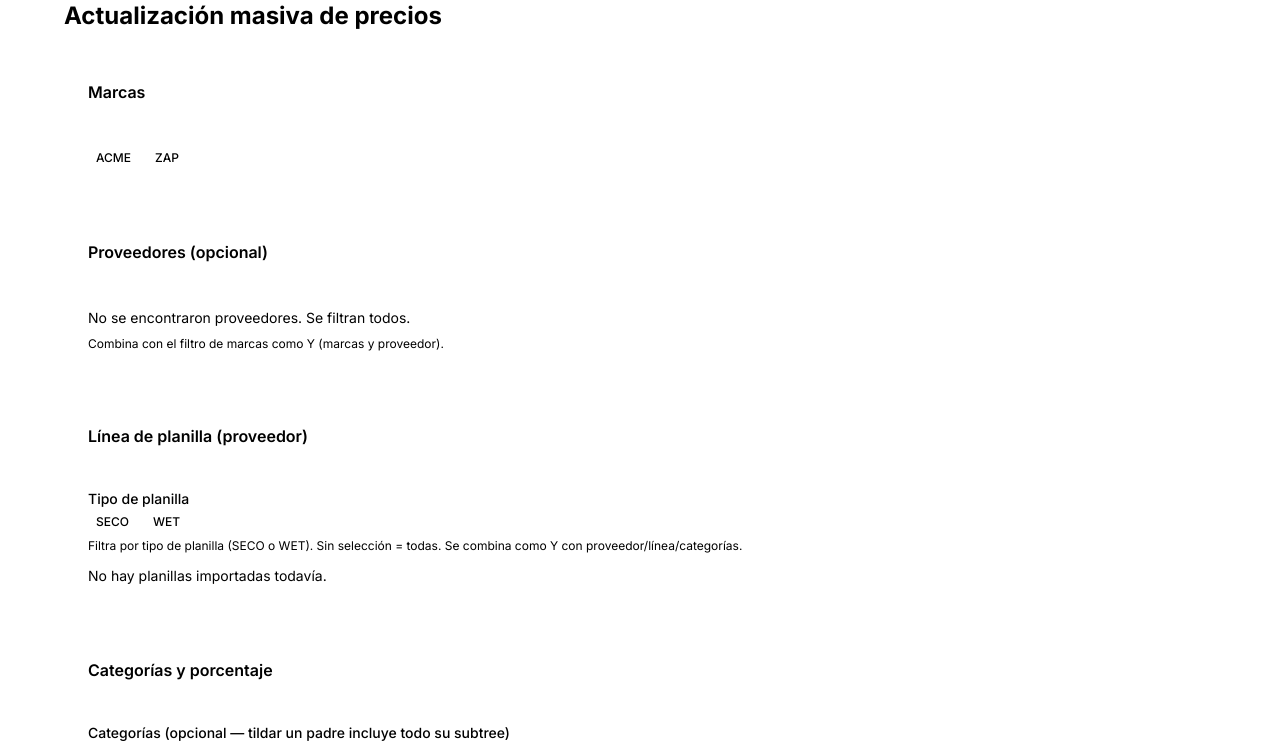
it: BulkPriceUpdate — preview, exclusions and apply › shows a red warning when the percentage is negative
Click the text "Acme" at [114, 158], box left=96, top=150, right=131, bottom=165
(page scrolled)
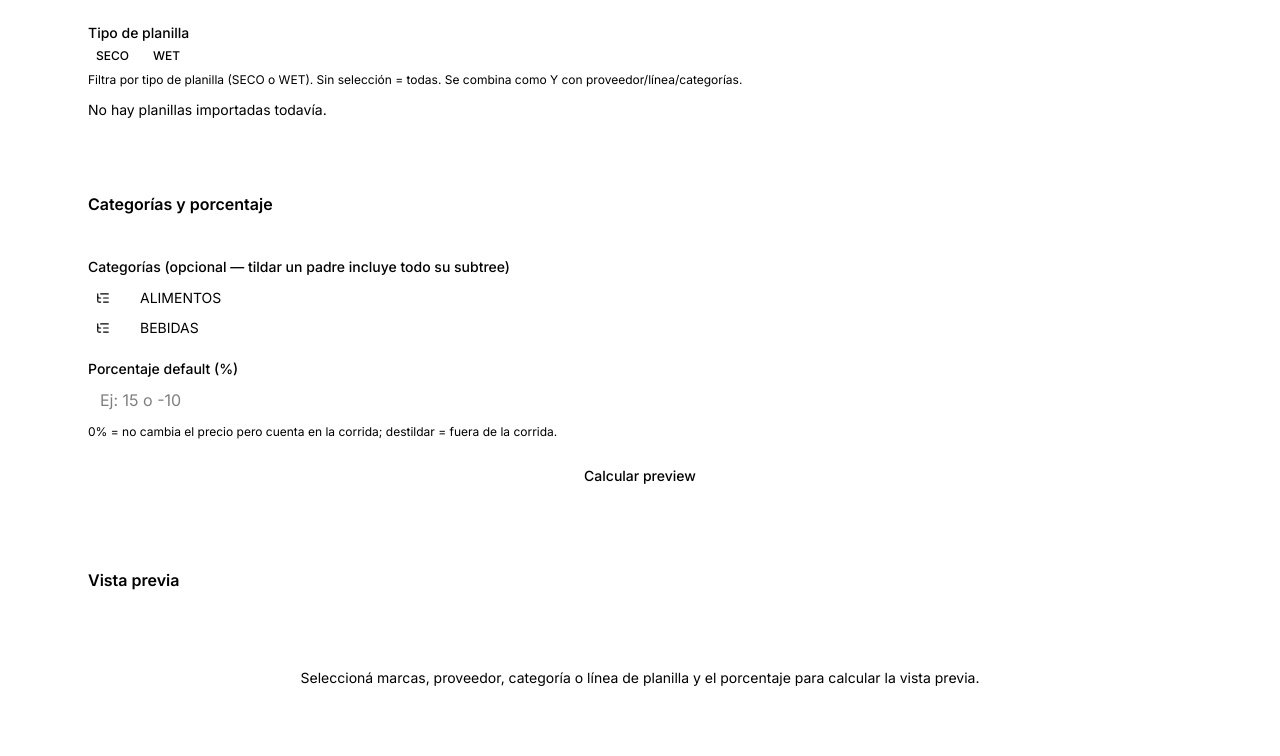
Type "-20" into the number field labelled "Porcentaje default (%)" at [640, 400], box left=88, top=382, right=1192, bottom=418
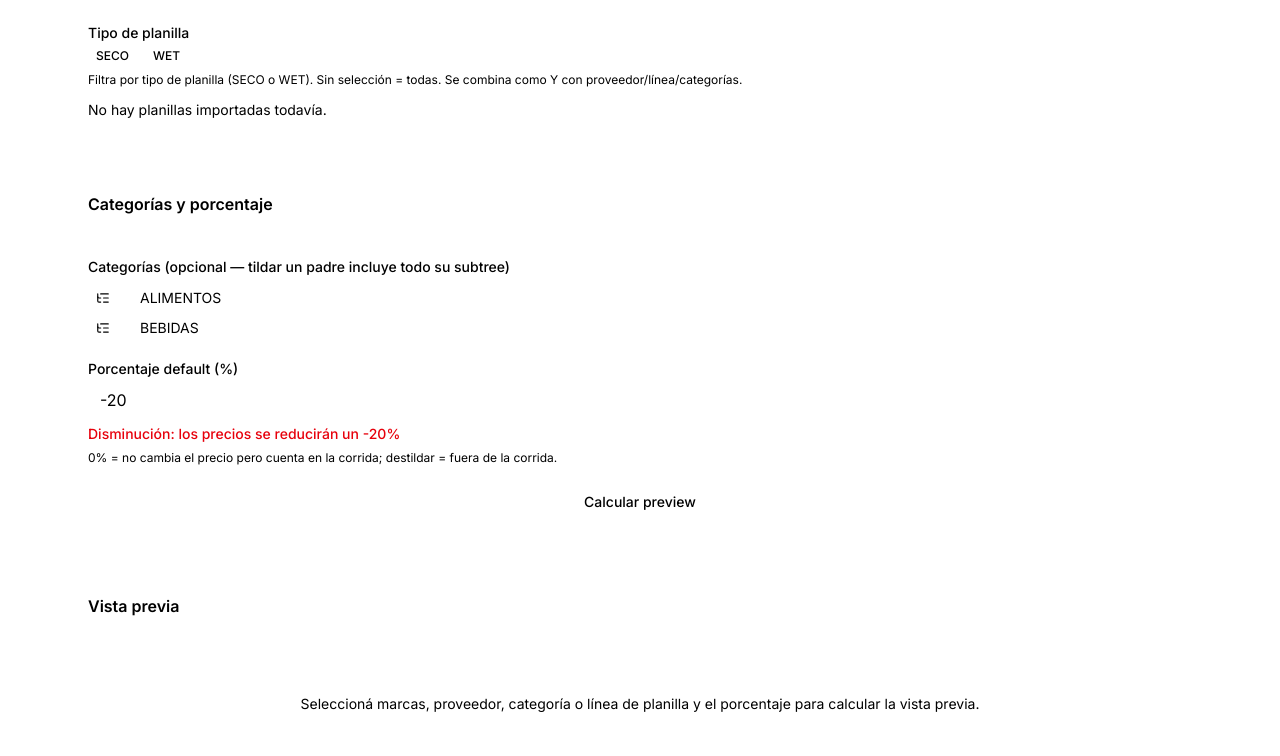
Now the text "Disminución: los precios se reducirán un -20%" is shown, box left=88, top=425, right=400, bottom=442
